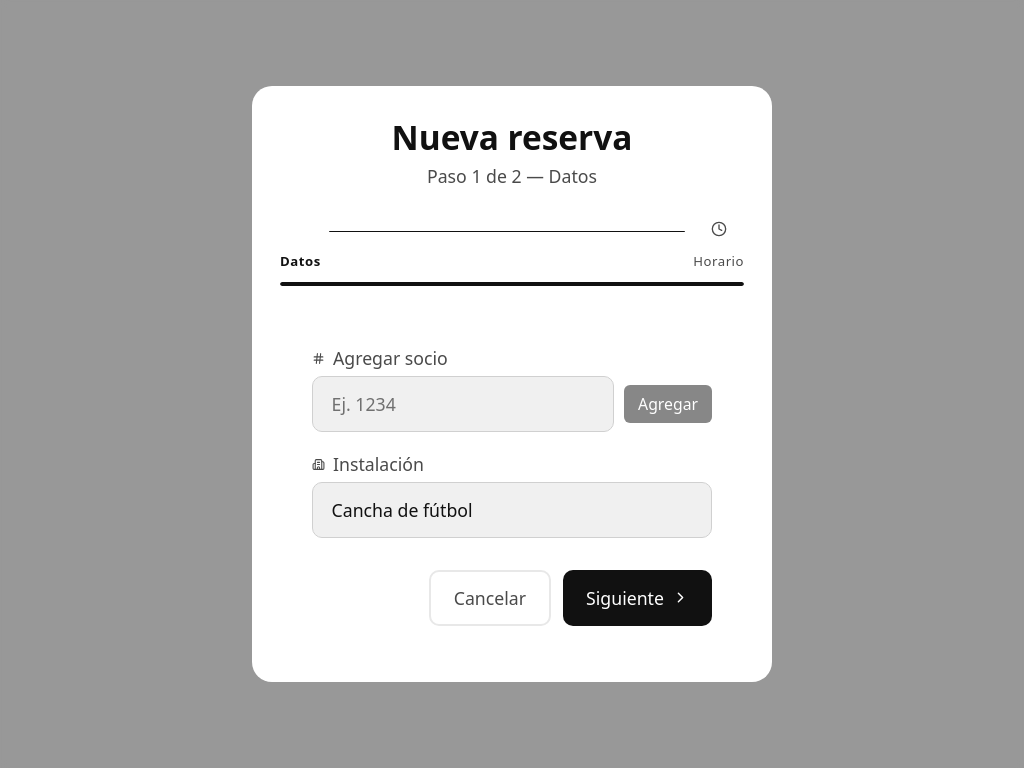
Test: CreateReservaForm › no agrega el socio si no es encontrado y muestra error
Step 1. Type "9999" into the field with placeholder "Ej. 1234" → coordinates (463, 404), box [312,376,614,432]
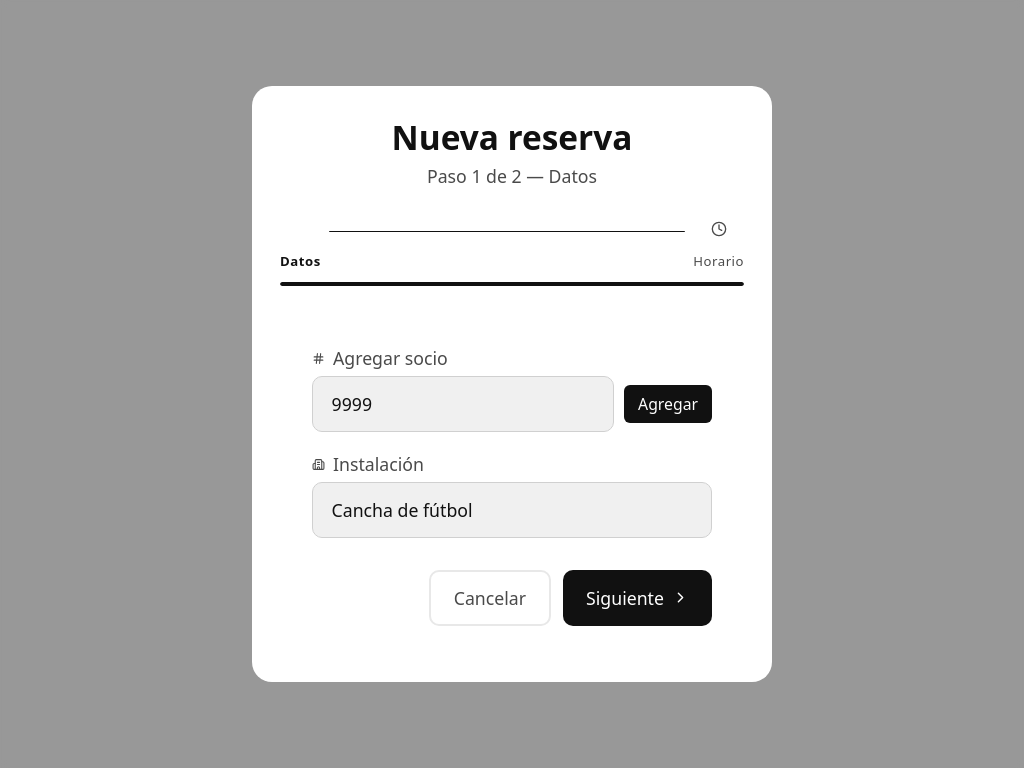
Step 2. Click the button "Agregar" → coordinates (668, 404), box [624,385,712,423]
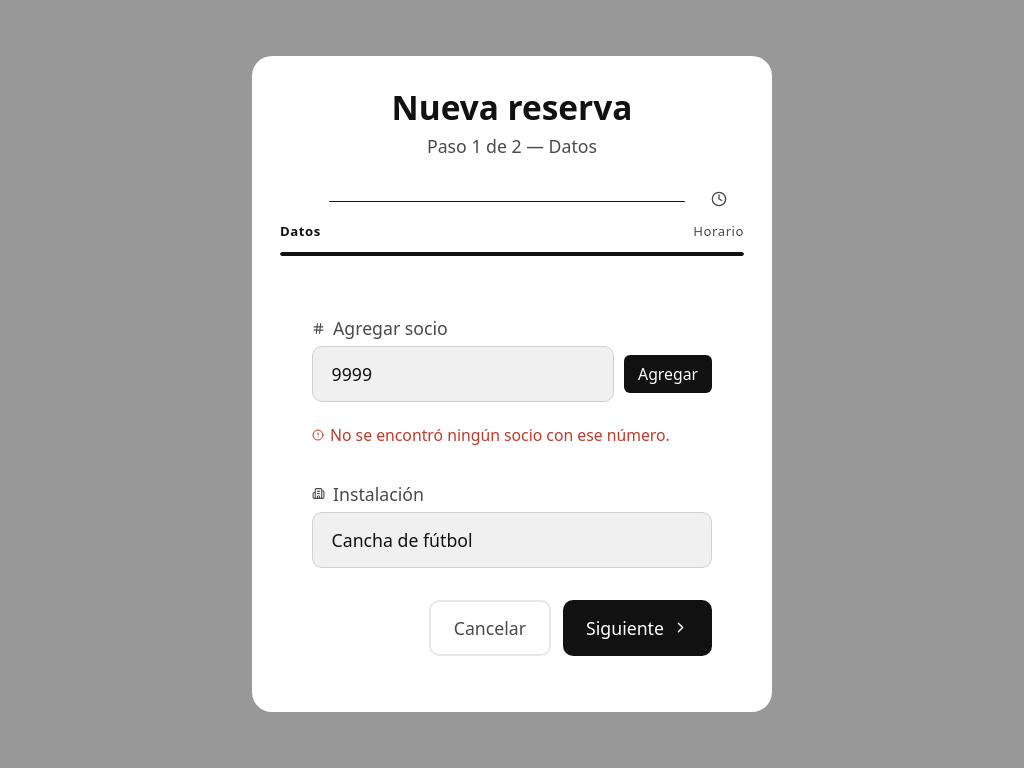
Check: the text "No se encontró ningún socio con ese número." is shown, box [312,424,712,446]
